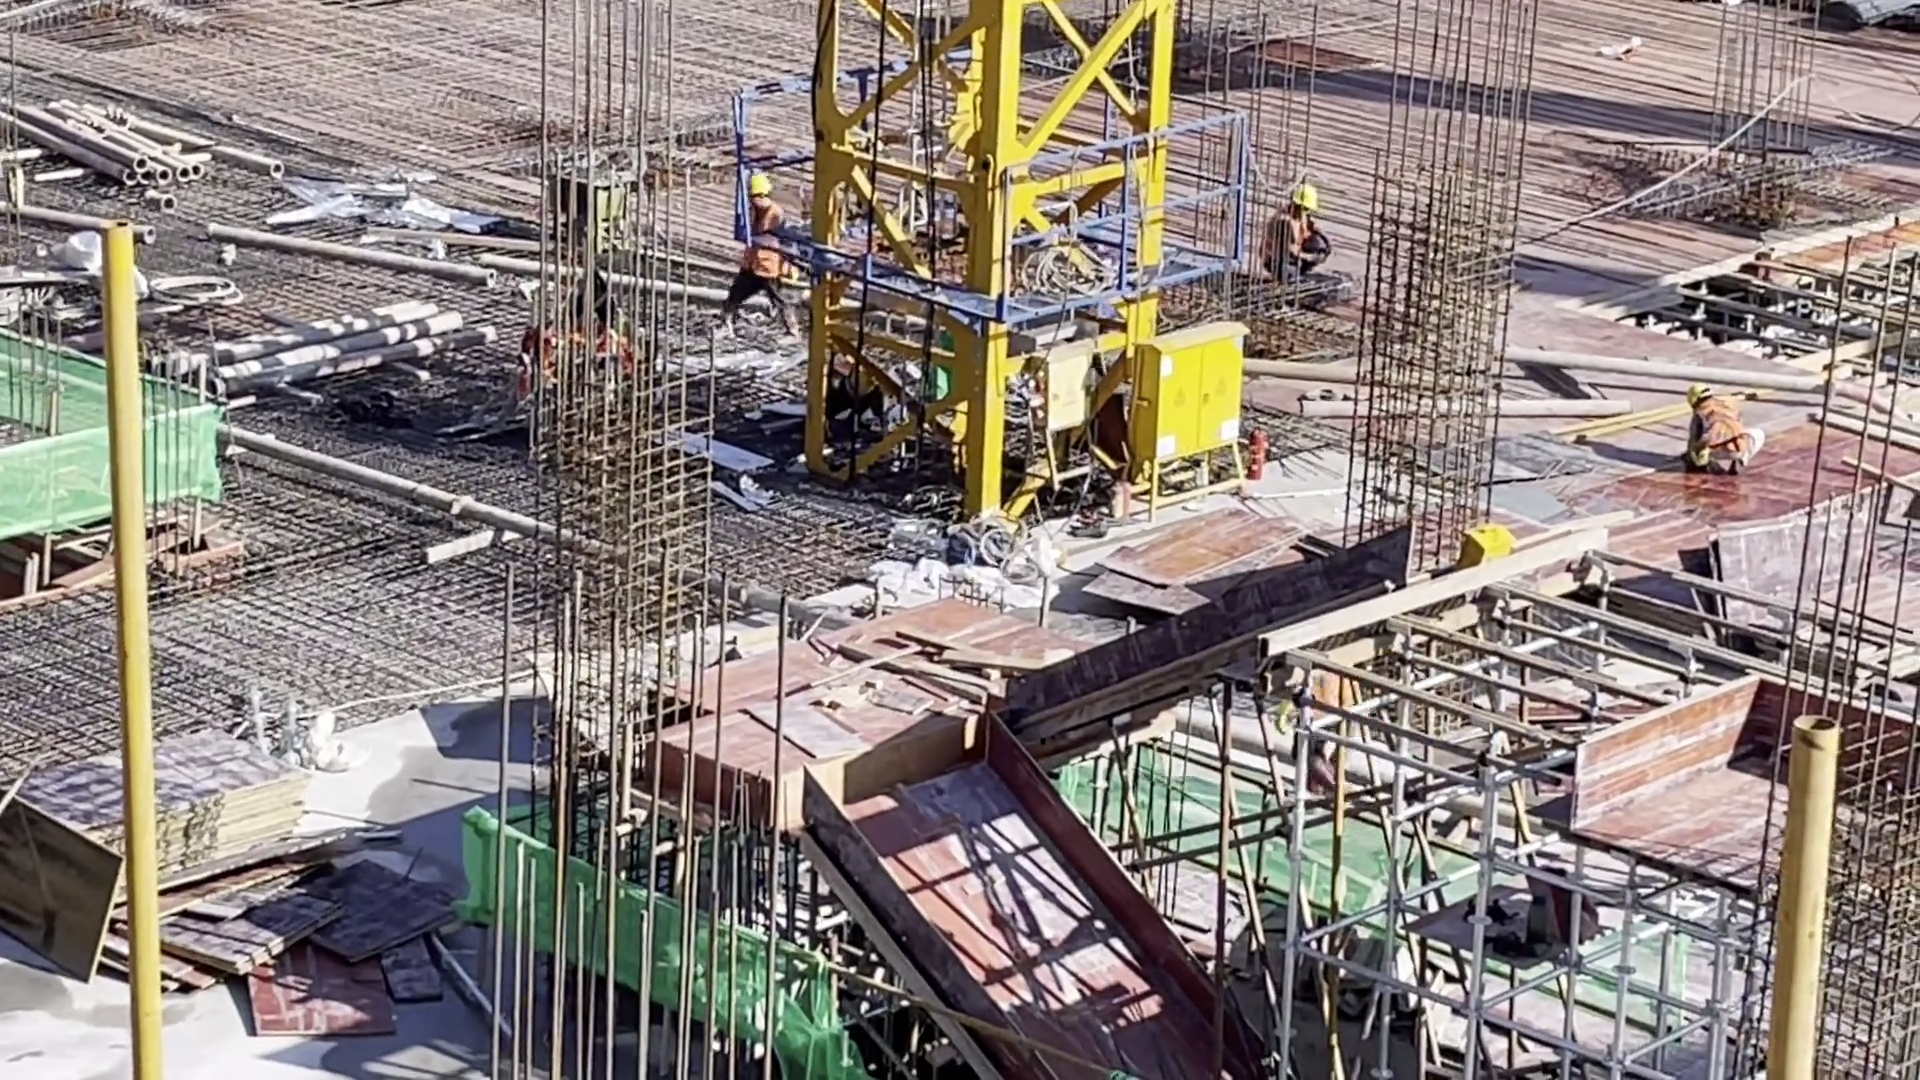board: (157, 869, 460, 1044), (5, 719, 308, 880)
ebox: (1139, 322, 1249, 519), (1024, 340, 1115, 495), (1460, 524, 1524, 572)
helmet: (741, 171, 772, 198), (1291, 182, 1320, 209)
person: (709, 168, 806, 336), (1294, 651, 1370, 783), (1249, 181, 1328, 284), (1678, 384, 1764, 473)
vest: (740, 195, 781, 278), (1694, 399, 1744, 454)
